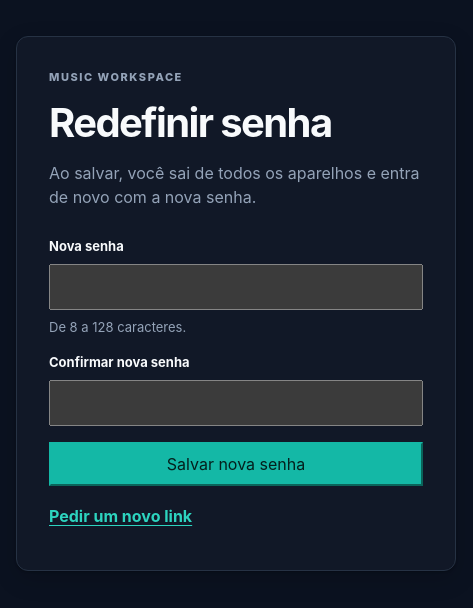
Test: ResetPasswordPage › shows the server error for an expired token
In the password field labelled "Nova senha": (236, 286) x1=49 y1=264 x2=423 y2=310, type "senha-nova-123"
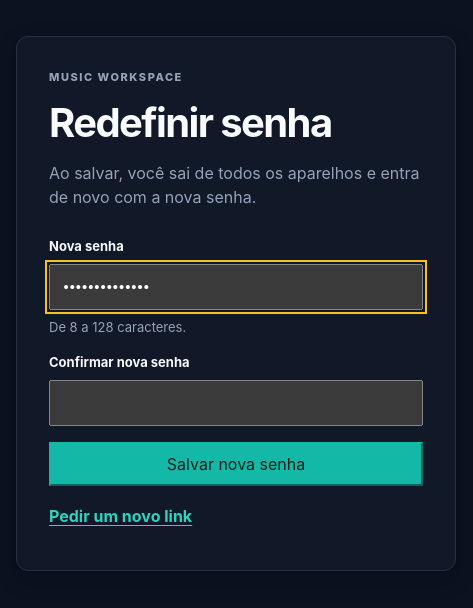
In the password field labelled "Confirmar nova senha": (236, 402) x1=49 y1=380 x2=423 y2=426, type "senha-nova-123"
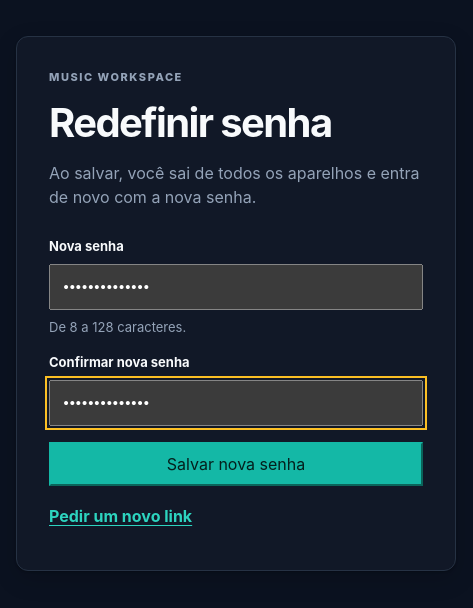
Click the button "Salvar nova senha": click(236, 464) x1=49 y1=442 x2=423 y2=486
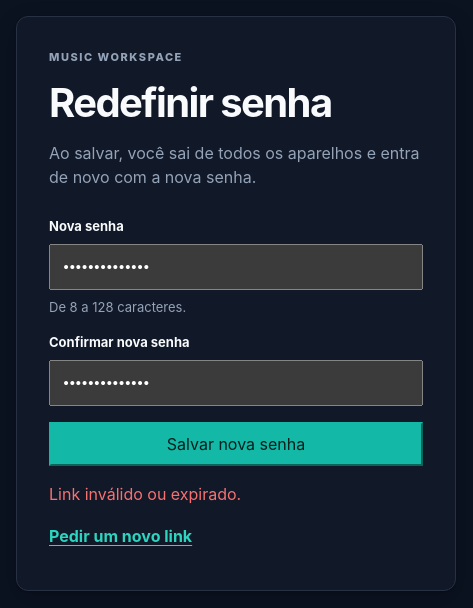
Result: the message reads "Link inválido ou expirado." at x1=49 y1=484 x2=241 y2=504
